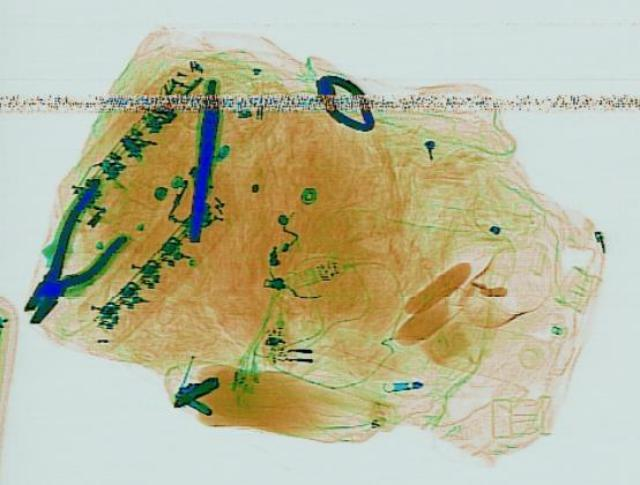Pliers: (0, 184, 146, 323)
